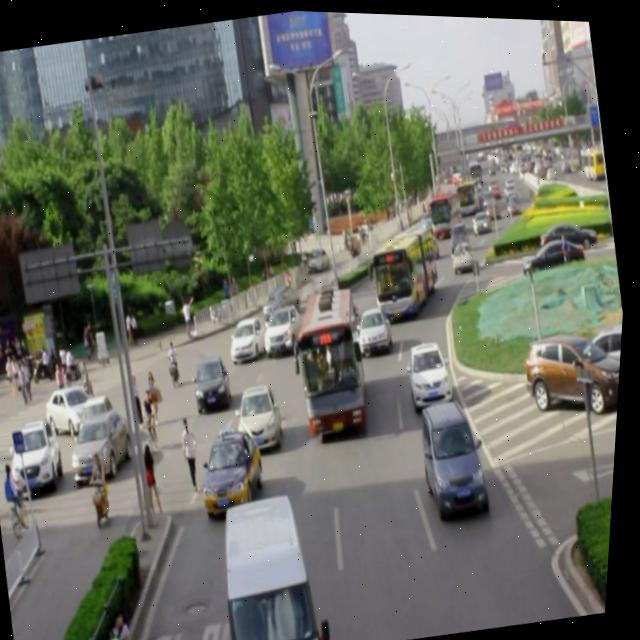car: (417, 391, 499, 515), (198, 421, 275, 518), (234, 378, 291, 453), (405, 333, 461, 407), (193, 349, 240, 414), (261, 299, 311, 354), (320, 292, 367, 346), (357, 301, 399, 353), (228, 311, 272, 360)
truck: (211, 487, 337, 640)
van: (286, 282, 379, 431), (367, 218, 448, 320)
